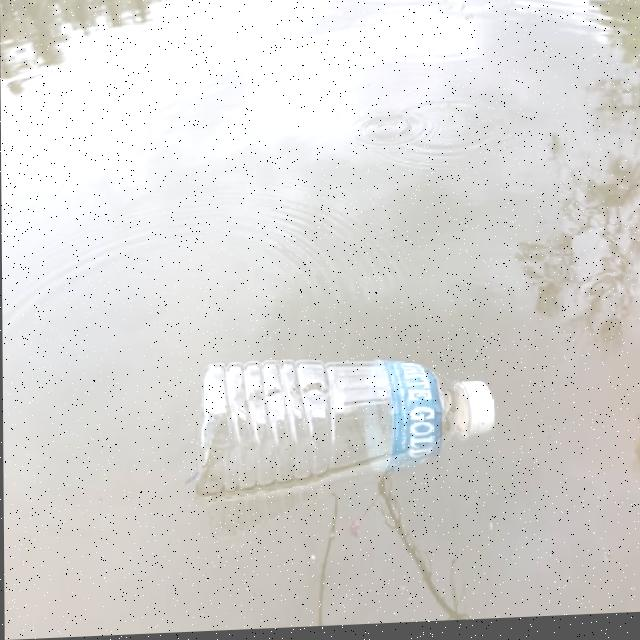waterbottle: (185, 327, 517, 504)
